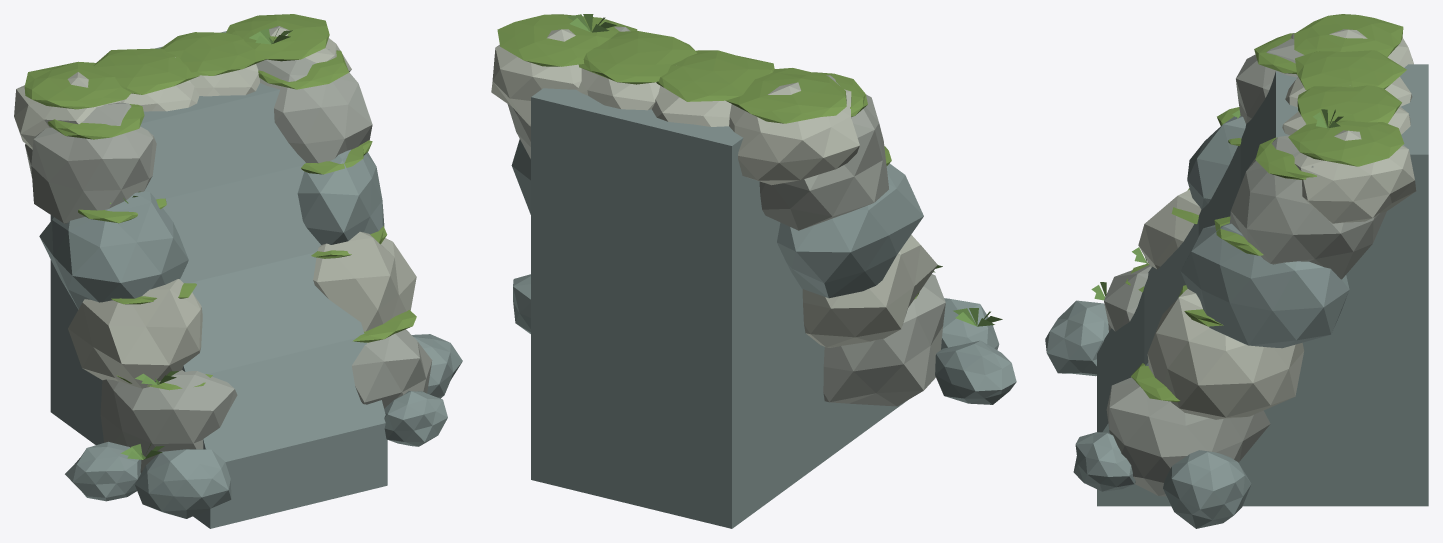
File: region_waterfall.glb
The picture shows the model from 3 angles, left to right: view 1: azimuth 30°, elevation 25°; view 2: azimuth 150°, elevation 25°; view 3: azimuth 270°, elevation 25°; orthographic projection. The views are drawn at different scales.
Parts seen in each view (by area): view 1: SolidRock_ContinuousBackdrop, SolidRock_Cliff ledge.002, SolidRock_Cliff ledge.001, SolidRock_Cliff ledge.003, SolidRock_Cliff ledge, SolidRock_Cliff ledge.007, SolidRock_Cliff ledge.005, SolidRock_Cliff ledge.006, SolidRock_Shore boulder, SolidRock_Cliff ledge.004, Vegetation_Crown moss, SolidRock_Shore boulder.002 (+14 smaller); view 2: SolidRock_ContinuousBackdrop, SolidRock_Cliff ledge.002, SolidRock_Cliff ledge, SolidRock_Spring crown, SolidRock_Cliff ledge.003, SolidRock_Cliff ledge.001, Vegetation_Crown moss, Vegetation_Crown moss.002, Vegetation_Crown moss.001, SolidRock_Shore boulder.002, Vegetation_Crown moss.003, SolidRock_Spring crown.003 (+6 smaller); view 3: SolidRock_ContinuousBackdrop, SolidRock_Cliff ledge.006, SolidRock_Cliff ledge.005, SolidRock_Cliff ledge.007, SolidRock_Cliff ledge.004, SolidRock_Spring crown.003, SolidRock_Shore boulder.003, Vegetation_Crown moss.003, SolidRock_Shore boulder, Vegetation_Crown moss.001, Vegetation_Crown moss, Vegetation_Crown moss.002 (+12 smaller).
Boxes of the visible parts, box(x1,y1,x2,y2) form: SolidRock_ContinuousBackdrop: box(50, 31, 387, 528); SolidRock_Cliff ledge.002: box(39, 191, 188, 309); SolidRock_Cliff ledge.001: box(68, 279, 202, 388); SolidRock_Cliff ledge.003: box(25, 102, 156, 223); SolidRock_Cliff ledge: box(100, 370, 237, 472); SolidRock_Cliff ledge.007: box(256, 49, 372, 163); SolidRock_Cliff ledge.005: box(313, 231, 416, 331); SolidRock_Cliff ledge.006: box(297, 149, 384, 244); SolidRock_Shore boulder: box(134, 449, 231, 518); SolidRock_Cliff ledge.004: box(352, 329, 432, 408); Vegetation_Crown moss: box(24, 61, 131, 109); SolidRock_Shore boulder.002: box(65, 441, 141, 501); SolidRock_ContinuousBackdrop: box(531, 88, 907, 528); SolidRock_Cliff ledge.002: box(777, 163, 923, 298); SolidRock_Cliff ledge: box(823, 274, 945, 406); SolidRock_Spring crown: box(729, 82, 859, 185); SolidRock_Cliff ledge.003: box(759, 75, 888, 230); SolidRock_Cliff ledge.001: box(802, 234, 937, 347); Vegetation_Crown moss: box(726, 68, 846, 123); Vegetation_Crown moss.002: box(579, 31, 696, 84); Vegetation_Crown moss.001: box(656, 50, 774, 101); SolidRock_Shore boulder.002: box(935, 340, 1016, 404); Vegetation_Crown moss.003: box(497, 14, 619, 66); SolidRock_Spring crown.003: box(491, 29, 581, 126); SolidRock_ContinuousBackdrop: box(1097, 64, 1428, 506); SolidRock_Cliff ledge.006: box(1180, 223, 1349, 348); SolidRock_Cliff ledge.005: box(1147, 289, 1303, 419); SolidRock_Cliff ledge.007: box(1230, 135, 1386, 279); SolidRock_Cliff ledge.004: box(1106, 377, 1270, 496); SolidRock_Spring crown.003: box(1294, 130, 1416, 223); SolidRock_Shore boulder.003: box(1163, 450, 1251, 528); Vegetation_Crown moss.003: box(1288, 120, 1404, 166); SolidRock_Shore boulder: box(1045, 300, 1108, 376); Vegetation_Crown moss.001: box(1295, 50, 1406, 90); Vegetation_Crown moss: box(1294, 14, 1403, 57); Vegetation_Crown moss.002: box(1297, 85, 1401, 124).
Size of the model in its own units: 24.91 by 21.3 by 19.07.
